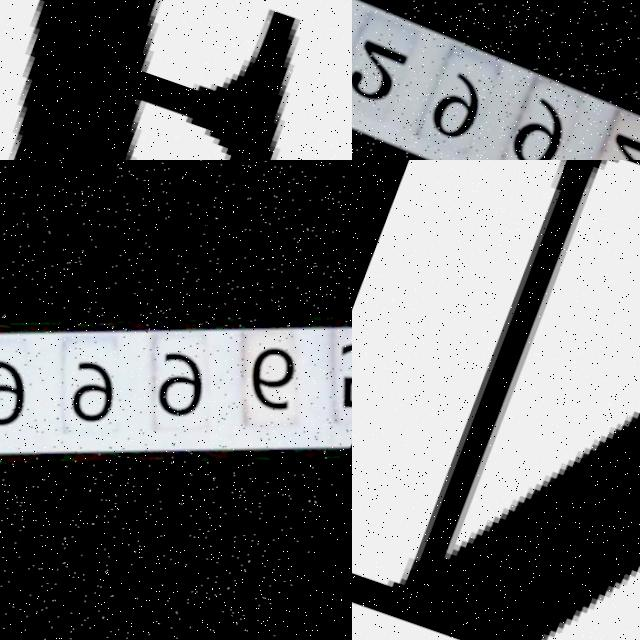2: (352, 13, 425, 132), (578, 110, 640, 160)
5: (299, 316, 352, 432)
6: (213, 320, 327, 441)
9: (118, 322, 237, 452), (34, 334, 144, 454), (410, 53, 502, 160), (0, 328, 61, 462), (489, 78, 588, 160)
E: (21, 0, 302, 160)
N: (352, 160, 640, 640)
